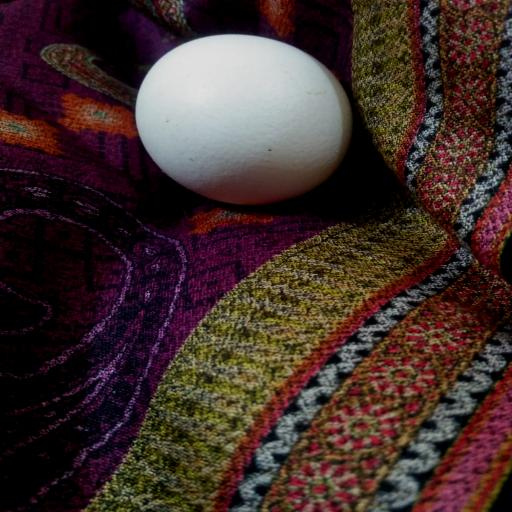telur: (132, 32, 356, 206)
